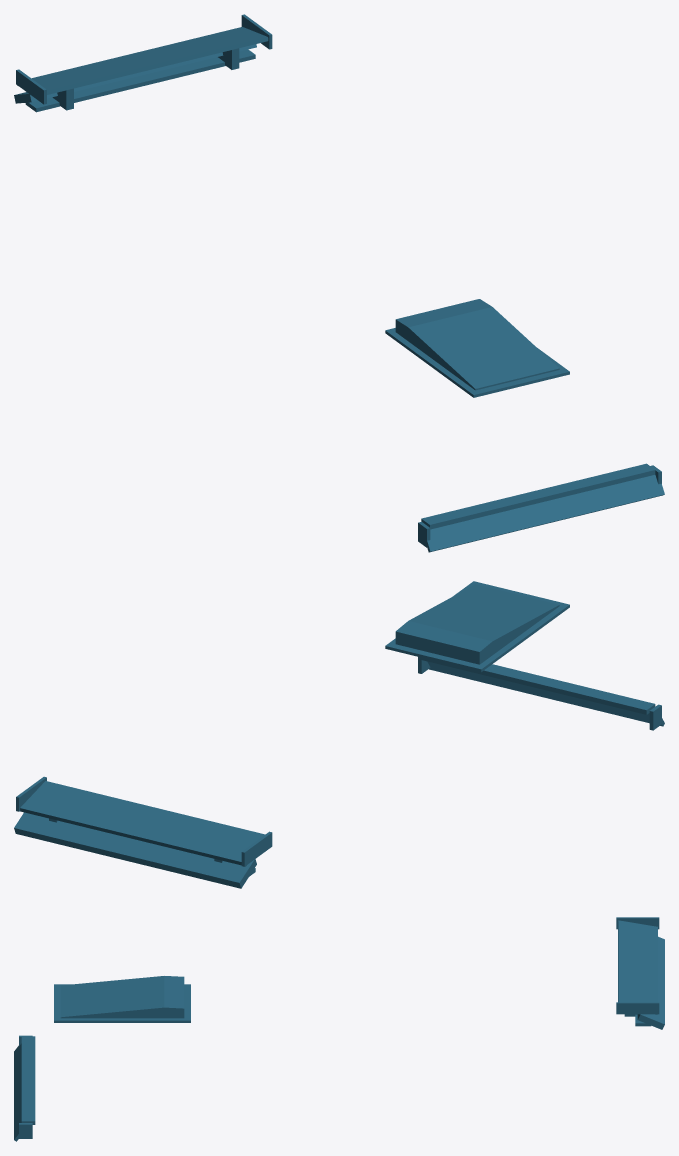
The model's file is nova-addons.glb.
3 renders of one model, top to bottom at view 1: azimuth 30°, elevation 25°; view 2: azimuth 150°, elevation 25°; view 3: azimuth 270°, elevation 25°, orthographic. The views are drawn at different scales.
Visible parts, largest first — view 1: chin_spoiler, cowl_scoop_4in, trunk_spoiler_wing, trunk_spoiler_ducktail, cowl_scoop_2in; view 2: trunk_spoiler_wing, cowl_scoop_4in, trunk_spoiler_ducktail, chin_spoiler, cowl_scoop_2in; view 3: cowl_scoop_4in, trunk_spoiler_wing, chin_spoiler, cowl_scoop_2in, trunk_spoiler_ducktail.
Boxes of the visible parts, x1,y1,x2,y2 form: chin_spoiler: (418,463,664,552); cowl_scoop_4in: (395,299,559,390); trunk_spoiler_wing: (16,14,272,110); trunk_spoiler_ducktail: (14,44,256,112); cowl_scoop_2in: (385,327,569,397); trunk_spoiler_wing: (16,776,272,866); cowl_scoop_4in: (395,584,559,664); trunk_spoiler_ducktail: (14,812,256,888); chin_spoiler: (418,657,664,730); cowl_scoop_2in: (385,581,569,672); cowl_scoop_4in: (60,976,184,1018); trunk_spoiler_wing: (616,917,659,1016); chin_spoiler: (14,1035,35,1141); cowl_scoop_2in: (54,984,190,1022); trunk_spoiler_ducktail: (635,936,664,1029).
Bounding box in the file's own units: 1.56 × 1.13 × 4.85.
